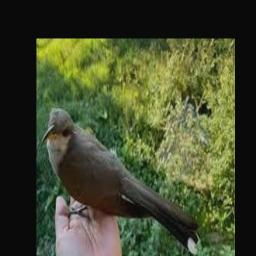Cuckoo: (41, 108, 199, 255)
